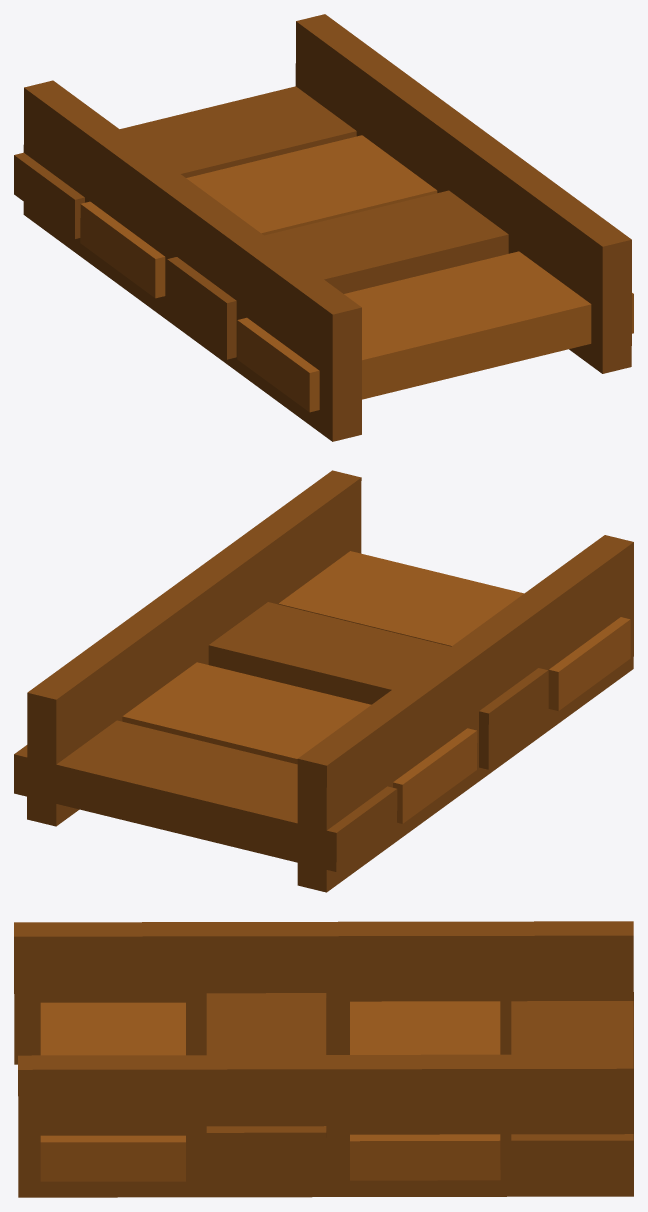
File: drawbridge_bridge.fbx
3 renders of one model, top to bottom at view 1: azimuth 30°, elevation 25°; view 2: azimuth 150°, elevation 25°; view 3: azimuth 270°, elevation 25°, orthographic.
Parts seen in each view (by area): view 1: polySurface181; view 2: polySurface181; view 3: polySurface181.
Boxes of the visible parts, x1,y1,x2,y2 form: polySurface181: (14,14,633,441); polySurface181: (14,470,633,892); polySurface181: (14,921,633,1197).
Bounding box in the file's own units: 60 × 22.71 × 99.04.
Materials: 1 (1 with a texture image).
